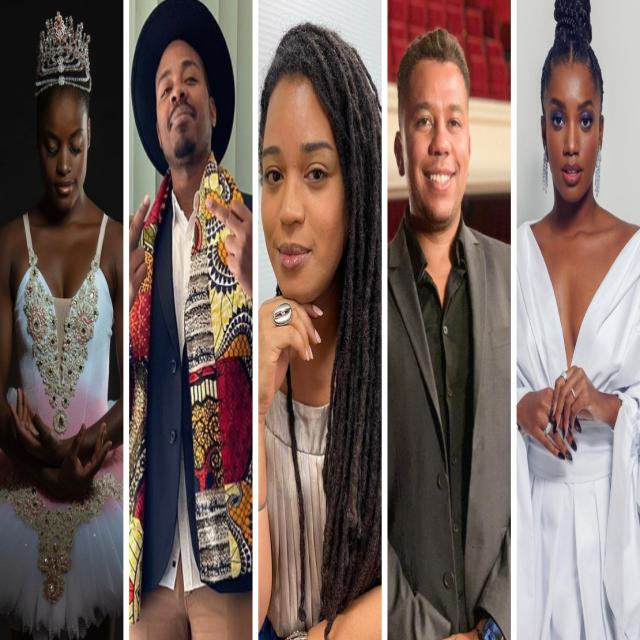sem_oculos: (259, 136, 353, 198), (388, 103, 480, 147), (534, 96, 610, 133), (31, 126, 97, 160), (148, 76, 208, 99)
